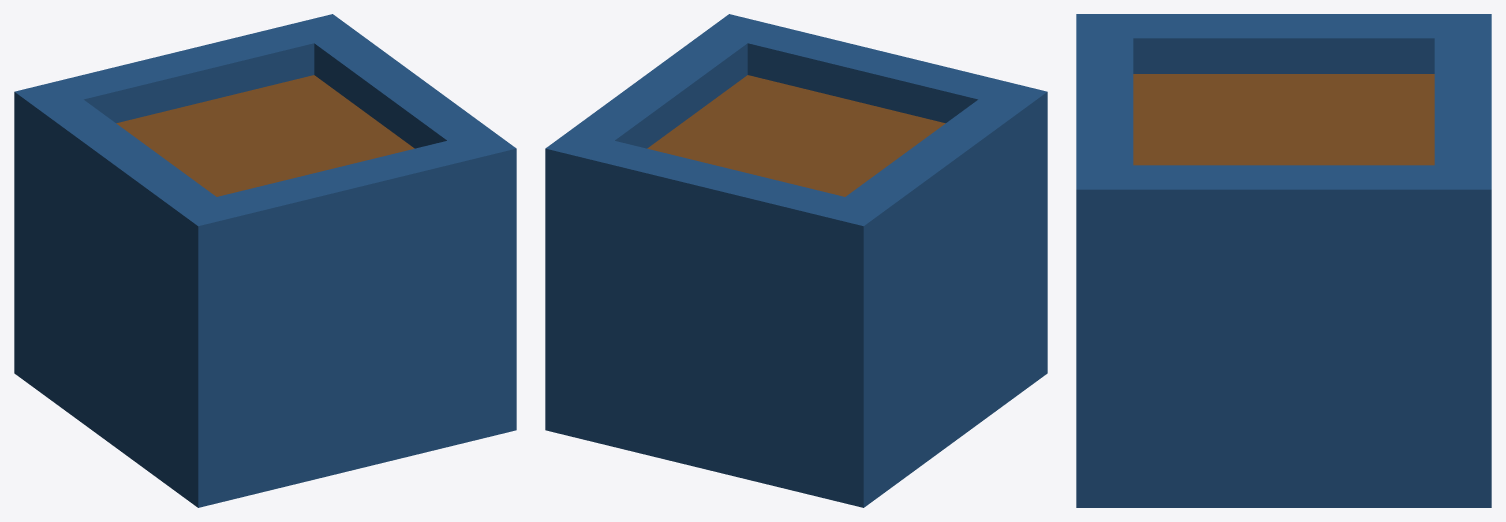
Rendered from vase_1c.fbx.
3 views of the same model, side by side, from view 1: azimuth 30°, elevation 25°; view 2: azimuth 150°, elevation 25°; view 3: azimuth 270°, elevation 25° (orthographic). The views are drawn at different scales.
Parts seen in each view (by area): view 1: vase_1c; view 2: vase_1c; view 3: vase_1c.
Boxes of the visible parts, x1=… form: vase_1c: x1=14, y1=14, x2=516, y2=507; vase_1c: x1=545, y1=14, x2=1047, y2=507; vase_1c: x1=1076, y1=14, x2=1491, y2=507.
Bounding box in the file's own units: 49.6 × 41.94 × 49.6.
